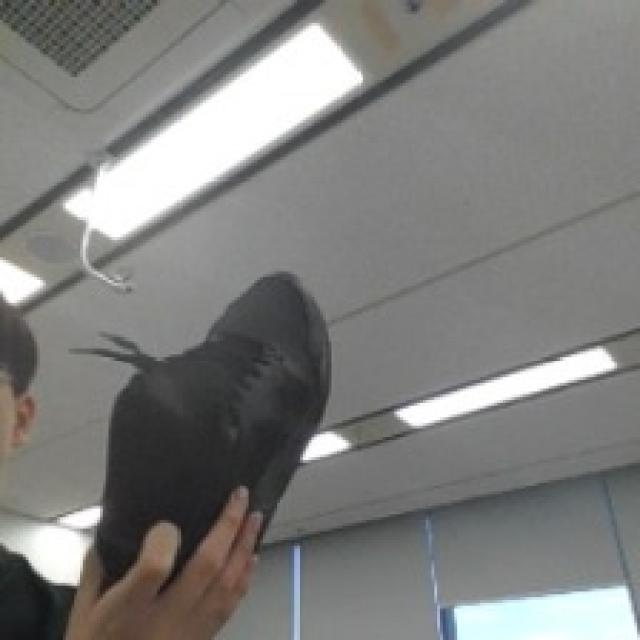shoes: (62, 260, 455, 570)
